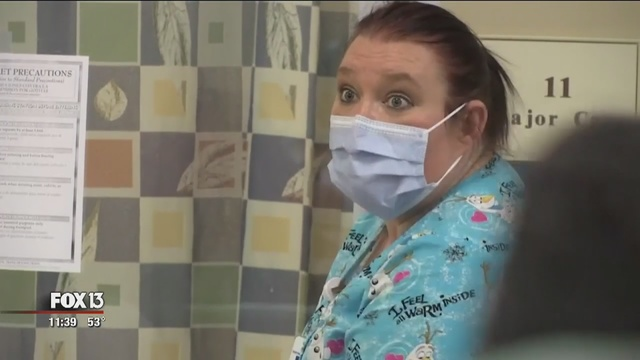mask: (329, 113, 439, 221)
